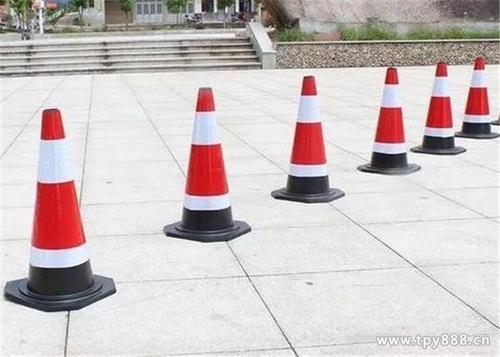cone_barrel: (14, 109, 105, 299), (167, 90, 240, 236), (276, 75, 336, 201), (364, 63, 412, 174), (415, 60, 460, 153), (458, 56, 493, 134)
